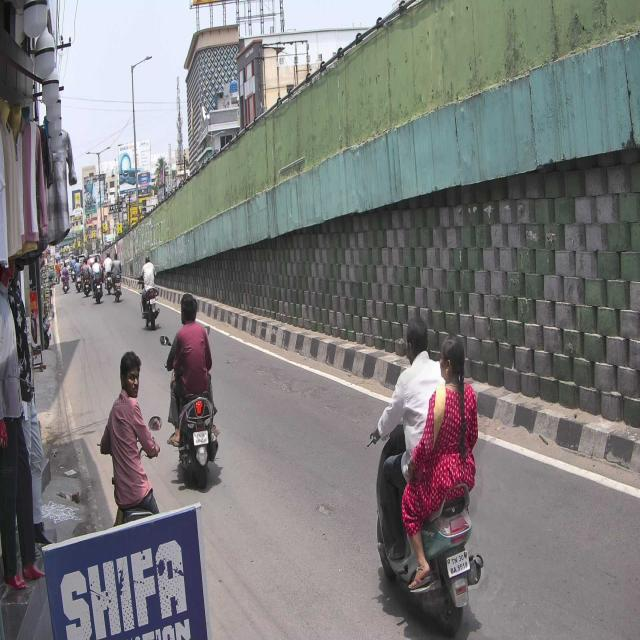double_rider: (367, 311, 482, 632), (164, 287, 224, 493)
